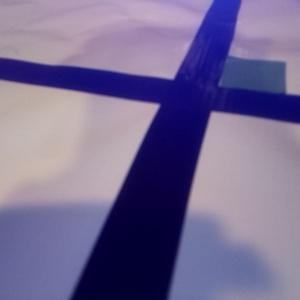top_right: (184, 58, 285, 110)
